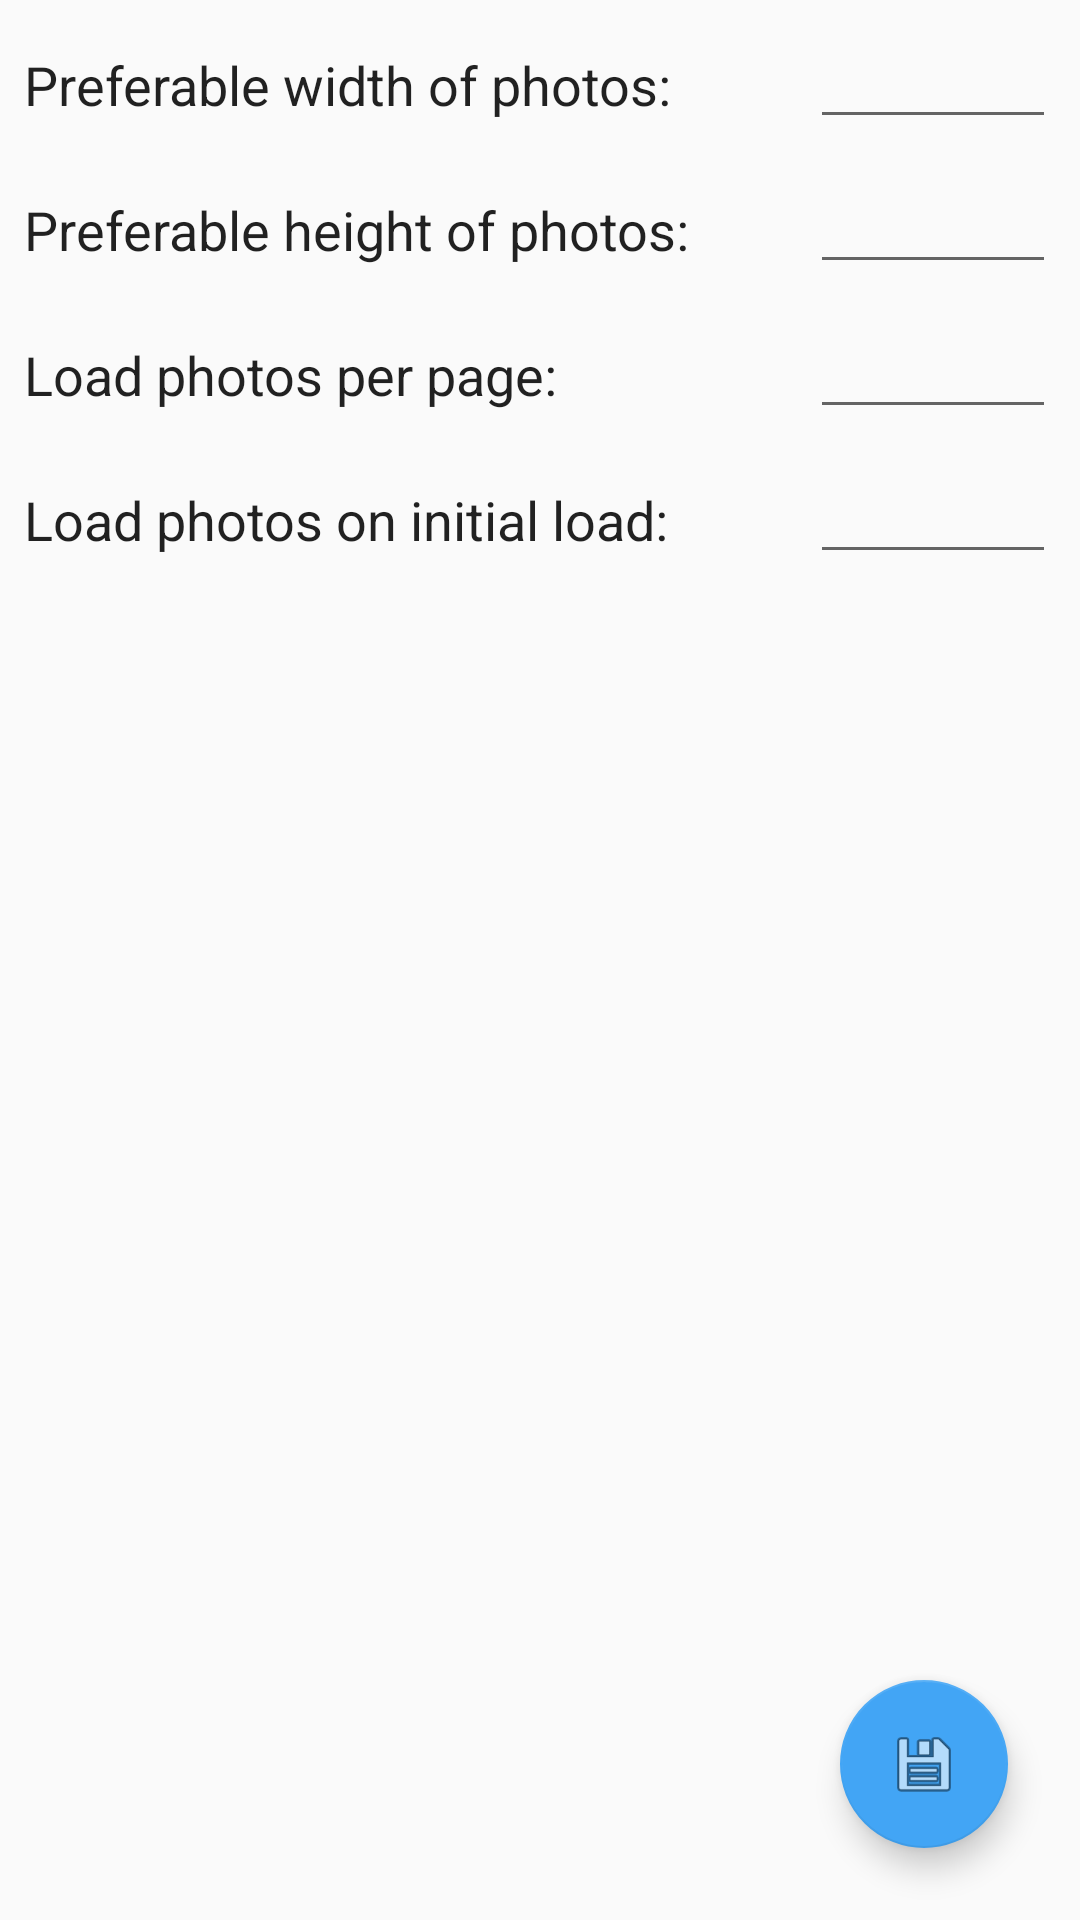

Point at icon controls on the screen. Image size 1080px×1920px, points as [x,y].
save: [924,1764]
